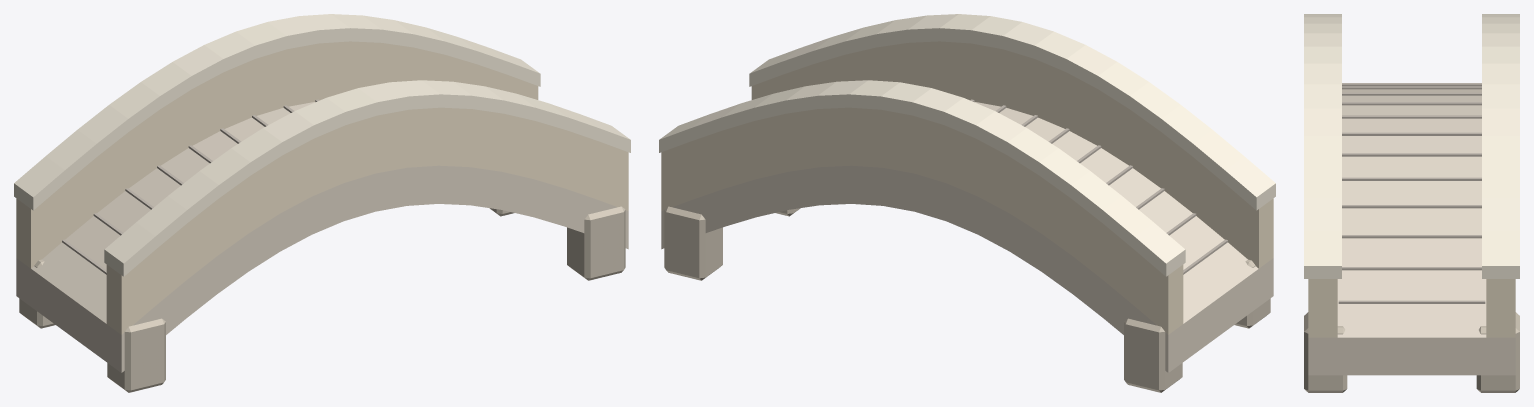
Rendered from prop_bridge.glb.
The picture shows the model from 3 angles, left to right: view 1: azimuth 30°, elevation 25°; view 2: azimuth 150°, elevation 25°; view 3: azimuth 270°, elevation 25°; orthographic projection.
Parts seen in each view (by area): view 1: structure.008; view 2: structure.008; view 3: structure.008.
Boxes of the visible parts, left/top/right/bottom form: structure.008: left=14, top=14, right=630, bottom=392; structure.008: left=659, top=14, right=1275, bottom=392; structure.008: left=1304, top=14, right=1519, bottom=392.
Size of the model in its own units: 3.2 by 1.4 by 1.2.
